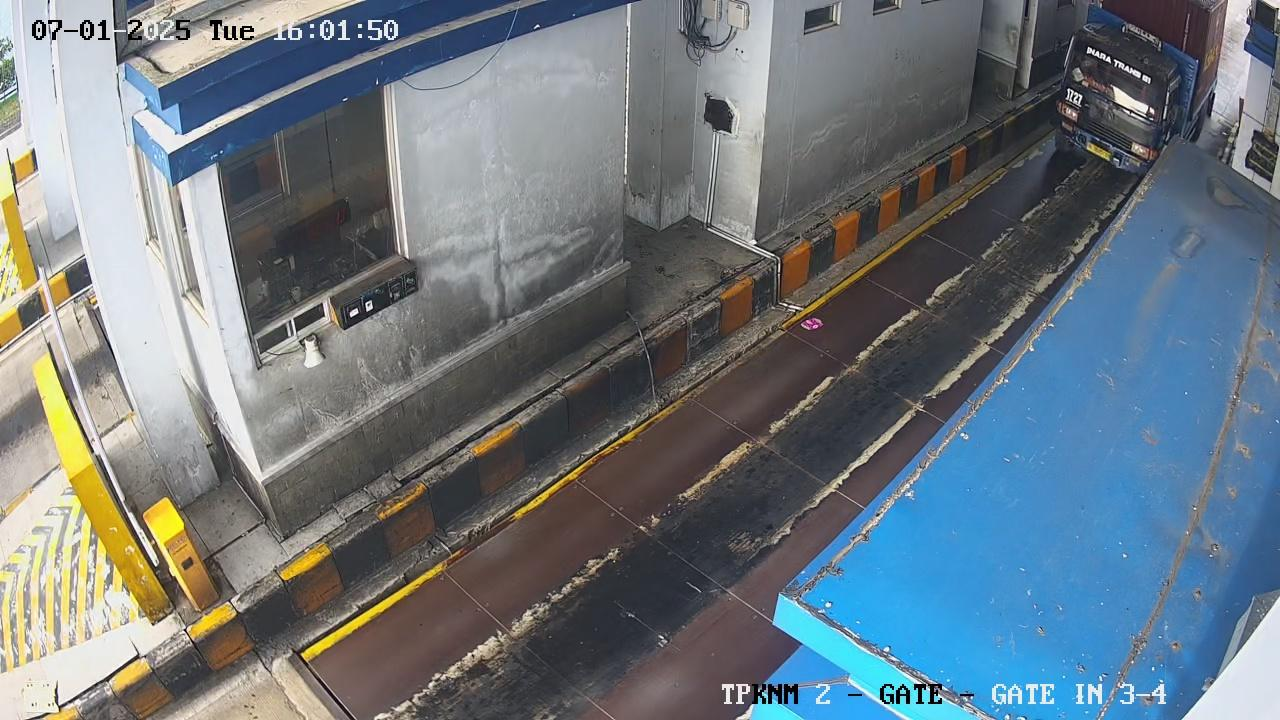truck_id: (1059, 83, 1090, 112)
